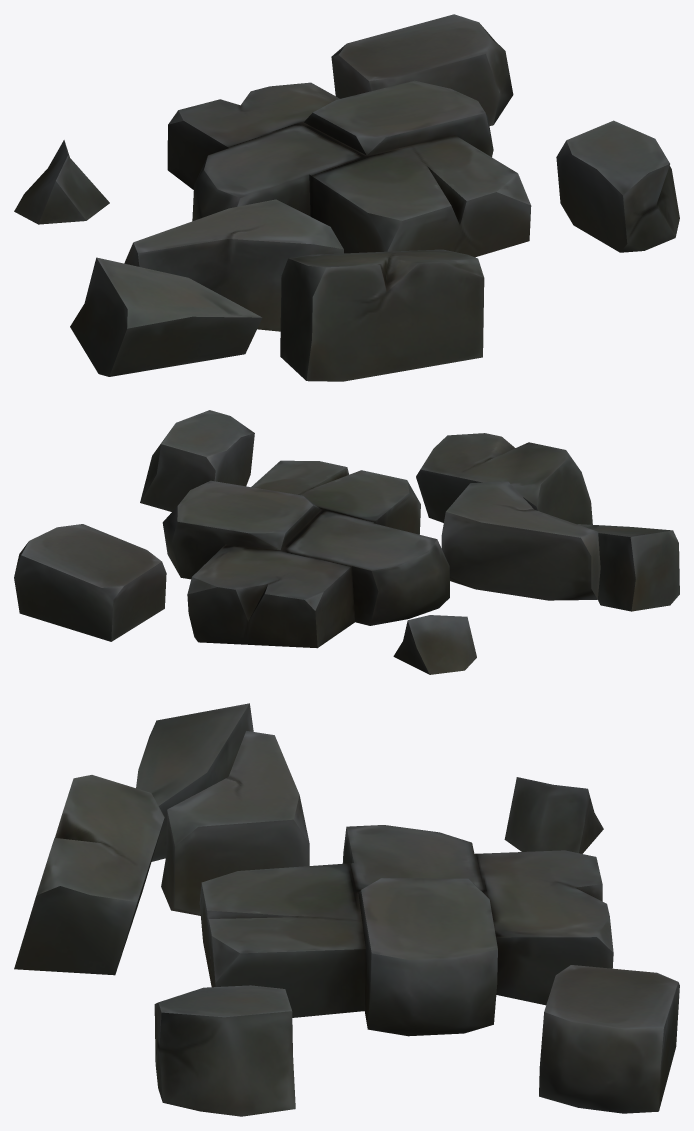
The picture shows the model from 3 angles, top to bottom: view 1: azimuth 30°, elevation 25°; view 2: azimuth 150°, elevation 25°; view 3: azimuth 270°, elevation 25°; orthographic projection. The views are drawn at different scales.
Visible parts, largest first — view 1: models_ruins_blocks_06-0-model; view 2: models_ruins_blocks_06-0-model; view 3: models_ruins_blocks_06-0-model.
Part boxes in pixels (box(x1,y1,x2,y2)): models_ruins_blocks_06-0-model: box(14, 14, 679, 381); models_ruins_blocks_06-0-model: box(14, 410, 679, 674); models_ruins_blocks_06-0-model: box(14, 703, 679, 1116).
Size of the model in its own units: 7.57 by 1.32 by 6.38.
1 material, 1 textured.
